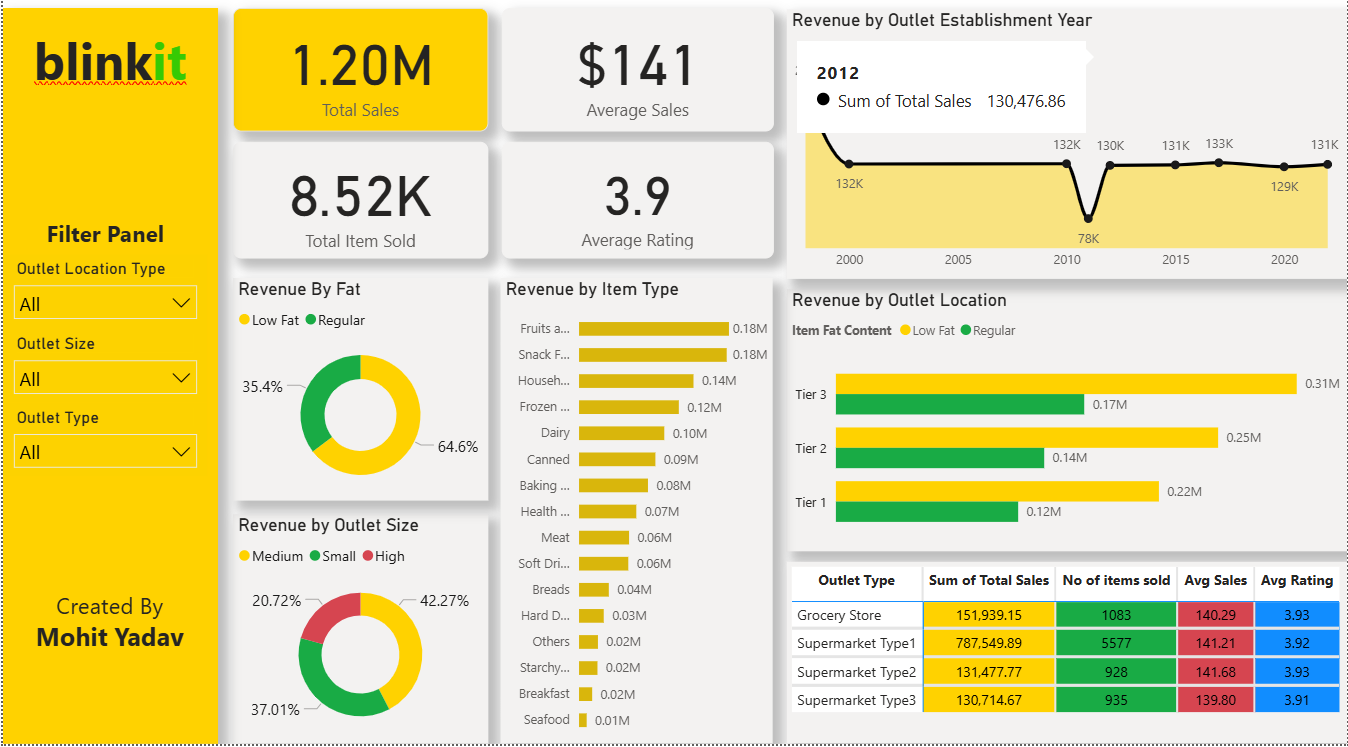

Layout of this report page (visuals, bound fields, positions):
{"tool":"powerbi","page":{"name":"Executive Summary","canvas":[1280,720],"ordinal":0},"visuals":[{"type":"card","fields":{"Values":["Sum(blinkit clean.Total Sales)"]},"box":[218.9,19.6,243.3,117.4],"z":0},{"type":"card","fields":{"Values":["blinkit clean.Avg Sales"]},"box":[474.5,19.6,259.2,117.4],"z":1000},{"type":"card","fields":{"Values":["blinkit clean.No of items sold"]},"box":[218.9,146.7,243.3,111.3],"z":2000},{"type":"card","fields":{"Values":["blinkit clean.Avg Rating"]},"box":[474.5,146.7,259.2,111.3],"z":3000},{"type":"clusteredBarChart","title":"Revenue by Outlet Location","fields":{"Category":["blinkit clean.Outlet Location Type"],"Series":["blinkit clean.Item Fat Content"],"Y":["Sum(blinkit clean.Total Sales)"]},"box":[746.9,286.4,533.3,249.4],"z":4000},{"type":"donutChart","title":"Revenue by Outlet Size","fields":{"Category":["blinkit clean.Outlet Size"],"Y":["Sum(blinkit clean.Total Sales)"]},"box":[218.5,501.2,243.2,218.5],"z":5000},{"type":"donutChart","title":"Revenue By Fat","fields":{"Y":["Sum(blinkit clean.Total Sales)"],"Category":["blinkit clean.Item Fat Content"]},"box":[218.5,276.5,243.2,212.3],"z":6000},{"type":"barChart","title":"Revenue by Item Type","fields":{"Y":["Sum(blinkit clean.Total Sales)"],"Category":["blinkit clean.Item Type"]},"box":[474.1,276.5,259.3,443.2],"z":7000},{"type":"textbox","box":[0,19.6,205,701],"z":8000},{"type":"textbox","box":[19.6,30.6,166.3,84.4],"z":9000},{"type":"lineChart","title":"Revenue by Outlet Establishment Year","fields":{"Category":["blinkit clean.Outlet Establishment Year"],"Y":["Sum(blinkit clean.Total Sales)"]},"box":[746.9,19.8,533.3,256.8],"z":10000},{"type":"pivotTable","fields":{"Rows":["blinkit clean.Outlet Type"],"Values":["Sum(blinkit clean.Total Sales)","blinkit clean.No of items sold","blinkit clean.Avg Sales","blinkit clean.Avg Rating"]},"box":[746.9,546.9,533.3,172.8],"z":11000},{"type":"slicer","fields":{"Values":["blinkit clean.Outlet Location Type"]},"box":[0,253.1,194.4,72.1],"z":12000},{"type":"slicer","fields":{"Values":["blinkit clean.Outlet Size"]},"box":[0,325.3,194.4,69.7],"z":13000},{"type":"slicer","fields":{"Values":["blinkit clean.Outlet Type"]},"box":[0,395,194.4,69.7],"z":14000},{"type":"textbox","box":[9.8,214,176.1,39.1],"z":15000},{"type":"textbox","box":[6,567.9,191.7,85.7],"z":15001}]}

Visuals, with their boxes in screenshot pixels (x1, y1, x2, y2), scaled from the page's 1280x720 canvas onto the 1348x747 screenshot:
card - Sum(blinkit clean.Total Sales): <bbox>231, 20, 487, 142</bbox>
card - blinkit clean.Avg Sales: <bbox>500, 20, 773, 142</bbox>
card - blinkit clean.No of items sold: <bbox>231, 152, 487, 268</bbox>
card - blinkit clean.Avg Rating: <bbox>500, 152, 773, 268</bbox>
"Revenue by Outlet Location" clusteredBarChart: <bbox>787, 297, 1347, 556</bbox>
"Revenue by Outlet Size" donutChart: <bbox>230, 520, 486, 746</bbox>
"Revenue By Fat" donutChart: <bbox>230, 287, 486, 507</bbox>
"Revenue by Item Type" barChart: <bbox>499, 287, 772, 746</bbox>
textbox: <bbox>0, 20, 216, 746</bbox>
textbox: <bbox>21, 32, 196, 119</bbox>
"Revenue by Outlet Establishment Year" lineChart: <bbox>787, 21, 1347, 287</bbox>
pivotTable - blinkit clean.Outlet Type x Sum(blinkit clean.Total Sales): <bbox>787, 567, 1347, 746</bbox>
slicer - blinkit clean.Outlet Location Type: <bbox>0, 263, 205, 337</bbox>
slicer - blinkit clean.Outlet Size: <bbox>0, 337, 205, 410</bbox>
slicer - blinkit clean.Outlet Type: <bbox>0, 410, 205, 482</bbox>
textbox: <bbox>10, 222, 196, 263</bbox>
textbox: <bbox>6, 589, 208, 678</bbox>
